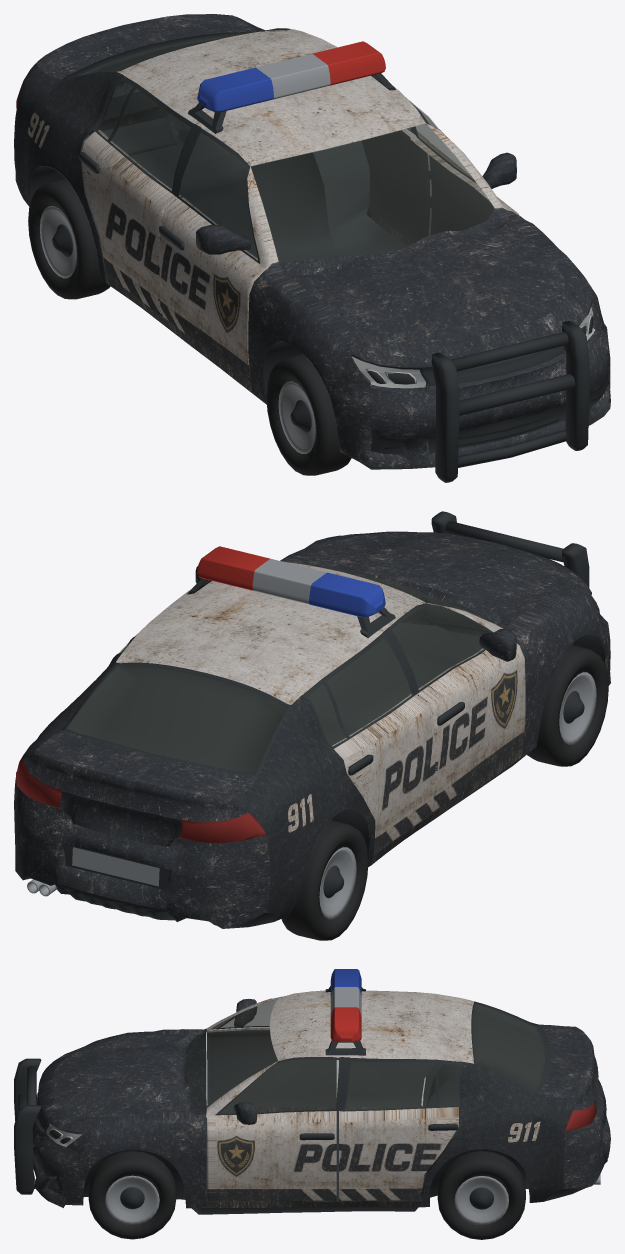
File: PoliceMesh.glb
3 views of the same model, one above another, from view 1: azimuth 30°, elevation 25°; view 2: azimuth 150°, elevation 25°; view 3: azimuth 270°, elevation 25° (orthographic). The views are drawn at different scales.
Visible parts, largest first — view 1: Windshield, Hood, Roof, Underbody, Front bumper, Front door R, Front fender R, Rear door R, Rear quarter R, Rear door L, Inner sill and wheel housings L, Front header (+37 smaller); view 2: Roof, Rear bumper, Rear glass, Rear quarter R, Hood, Front door R, Rear door R, Underbody, Front fender R, Trunk, Rear header, Tire RR (+30 smaller); view 3: Roof, Front door L, Rear quarter L, Rear door L, Hood, Front fender L, Front door R, Windshield, Rear glass, Front side glass L, Tire RL, Tire FL (+35 smaller).
Boxes of the visible parts, <box> form: Windshield: <box>251,123,494,262</box>; Hood: <box>287,221,565,344</box>; Roof: <box>116,29,425,166</box>; Underbody: <box>151,152,347,262</box>; Front bumper: <box>359,332,610,468</box>; Front door R: <box>159,197,264,382</box>; Front fender R: <box>248,261,370,461</box>; Rear door R: <box>82,130,181,316</box>; Rear quarter R: <box>14,63,123,282</box>; Rear door L: <box>362,128,431,242</box>; Inner sill and wheel housings L: <box>236,141,407,255</box>; Front header: <box>350,279,591,367</box>; Roof: <box>116,562,425,704</box>; Rear bumper: <box>14,777,269,928</box>; Rear glass: <box>62,662,291,777</box>; Rear quarter R: <box>230,695,375,921</box>; Hood: <box>297,532,564,623</box>; Front door R: <box>416,643,525,812</box>; Rear door R: <box>332,694,435,854</box>; Underbody: <box>307,633,466,745</box>; Front fender R: <box>502,586,610,756</box>; Trunk: <box>34,730,256,802</box>; Rear header: <box>23,755,248,822</box>; Tire RR: <box>281,820,368,940</box>; Roof: <box>269,990,474,1063</box>; Front door L: <box>207,1111,336,1201</box>; Rear quarter L: <box>422,1061,578,1207</box>; Rear door L: <box>339,1107,458,1201</box>; Hood: <box>51,1033,189,1117</box>; Front fender L: <box>63,1108,206,1208</box>; Front door R: <box>207,1028,336,1106</box>; Windshield: <box>184,999,277,1107</box>; Rear glass: <box>471,1001,551,1094</box>; Front side glass L: <box>219,1059,339,1113</box>; Tire RL: <box>437,1150,525,1239</box>; Tire FL: <box>88,1150,176,1239</box>.
Size of the model in its own units: 0.444 by 0.3583 by 1.
14 materials, 4 textured.
